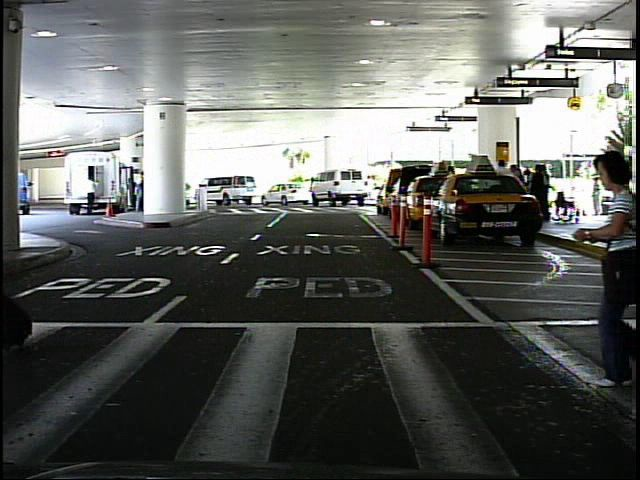person: (83, 173, 102, 218), (591, 172, 604, 218), (366, 171, 379, 204)
